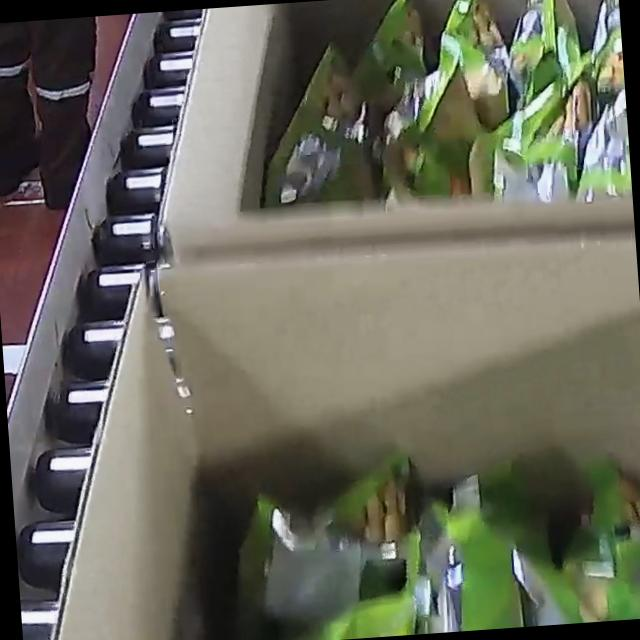yogurt: (222, 367, 640, 640), (241, 0, 632, 223)
